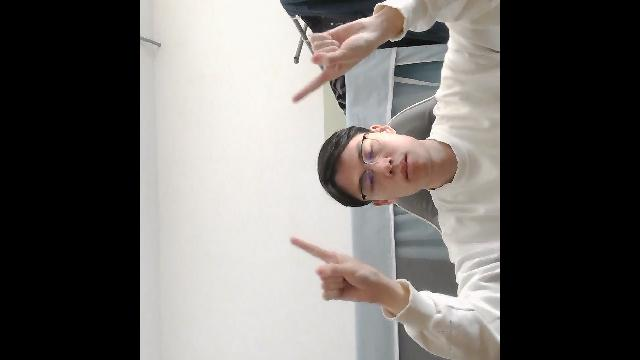one: (285, 7, 389, 107), (286, 230, 402, 314)
